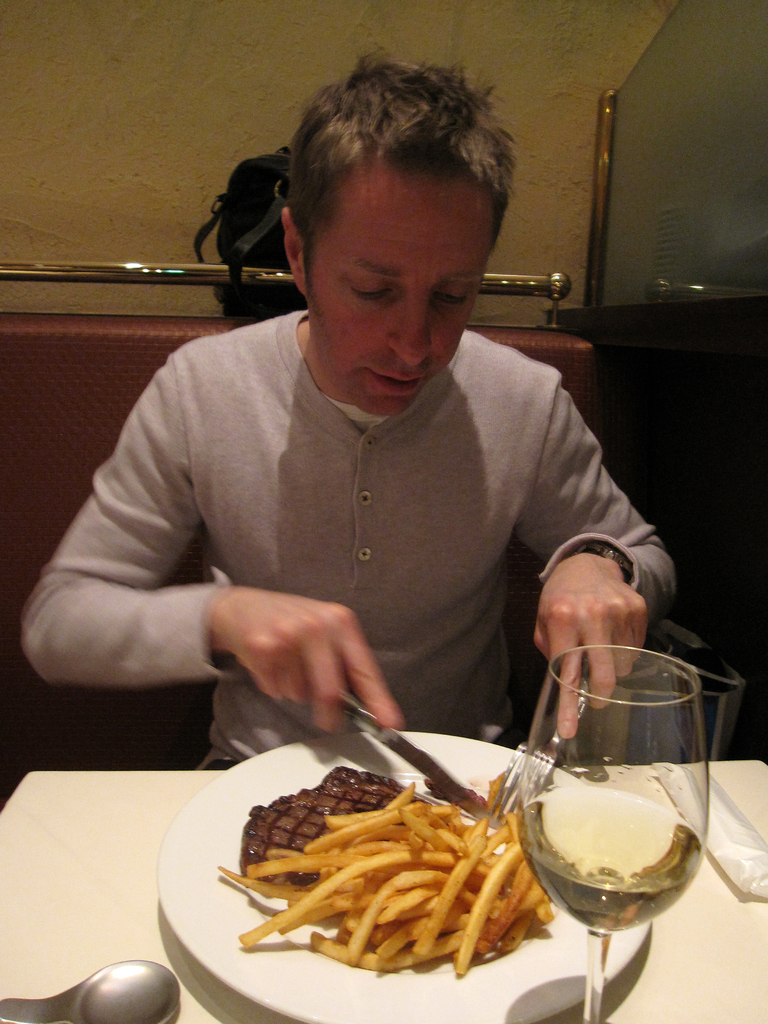French fries: (217, 759, 569, 983)
